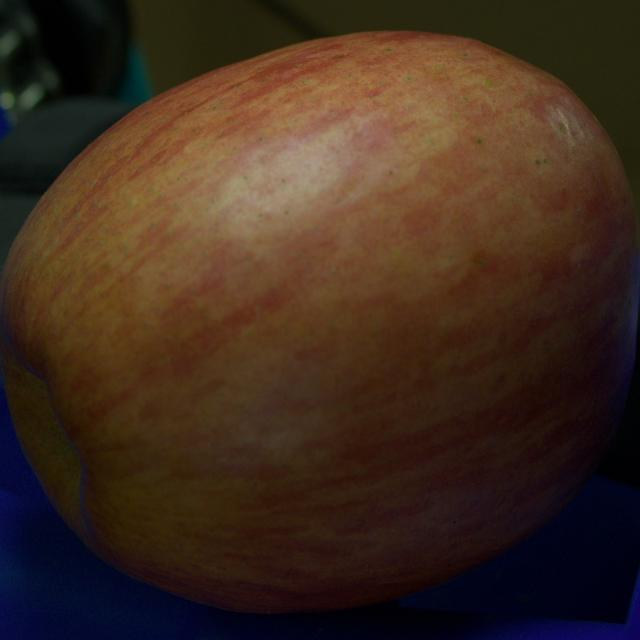apple: (0, 32, 639, 612)
